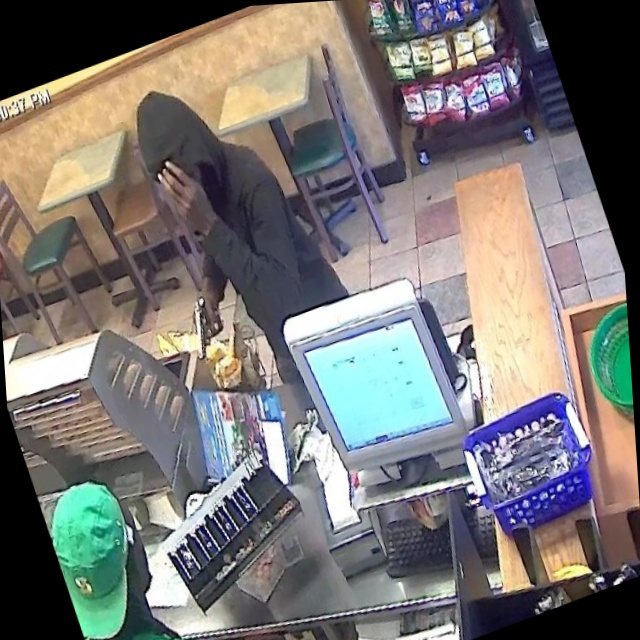gun: (175, 289, 236, 368)
